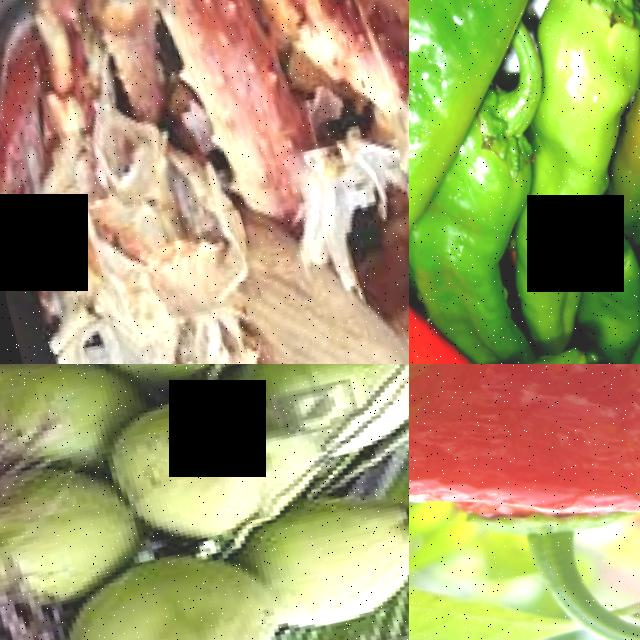coconut: (93, 385, 323, 557), (234, 492, 409, 640), (21, 542, 285, 640), (0, 456, 137, 632)
crab: (146, 0, 323, 247), (253, 0, 409, 194)
